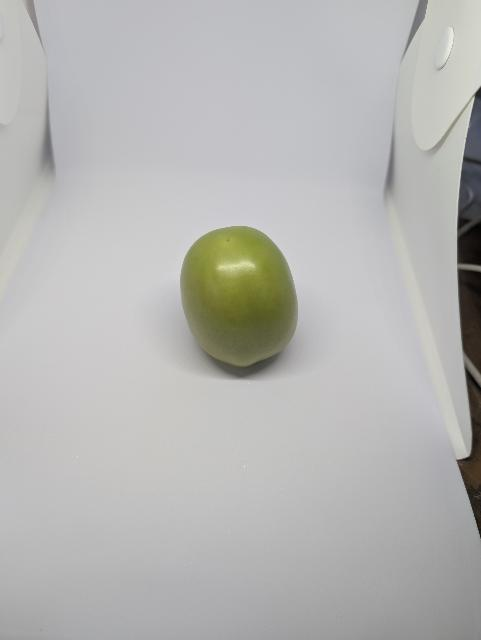green: (164, 213, 315, 387)
